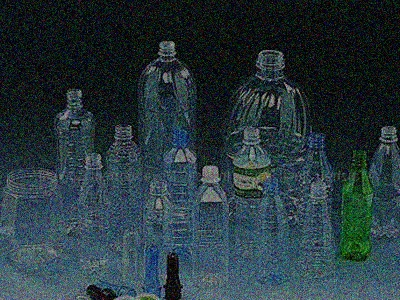bottle: (336, 148, 381, 272), (248, 178, 294, 288), (195, 157, 227, 289), (78, 150, 109, 277)
